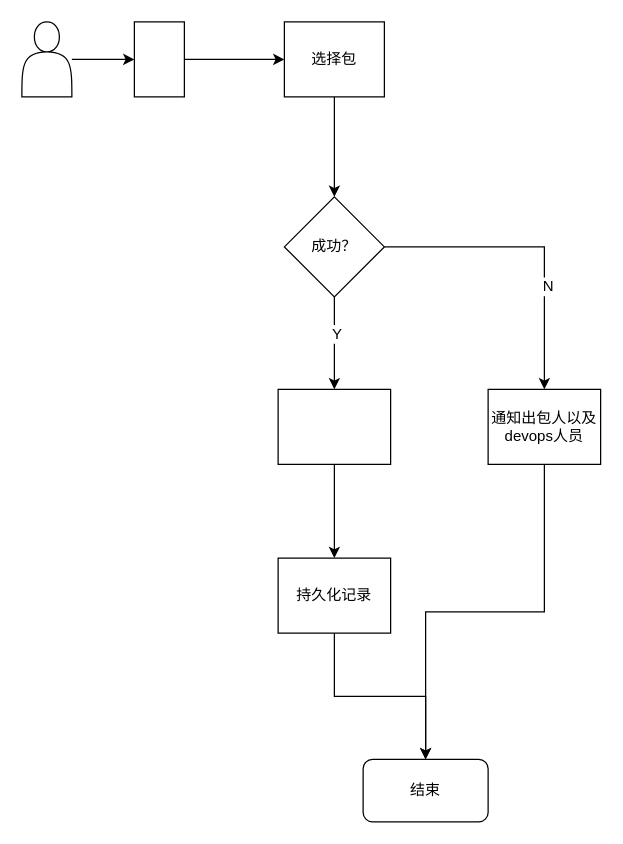
Image size: 623x844. Some labels were removed from this diagram. Here are the shapes that lost their labels. From the top down, the centre of each, then its label:
point 158,59: 登录
point 334,426: 邮件或者微信通知出包人
